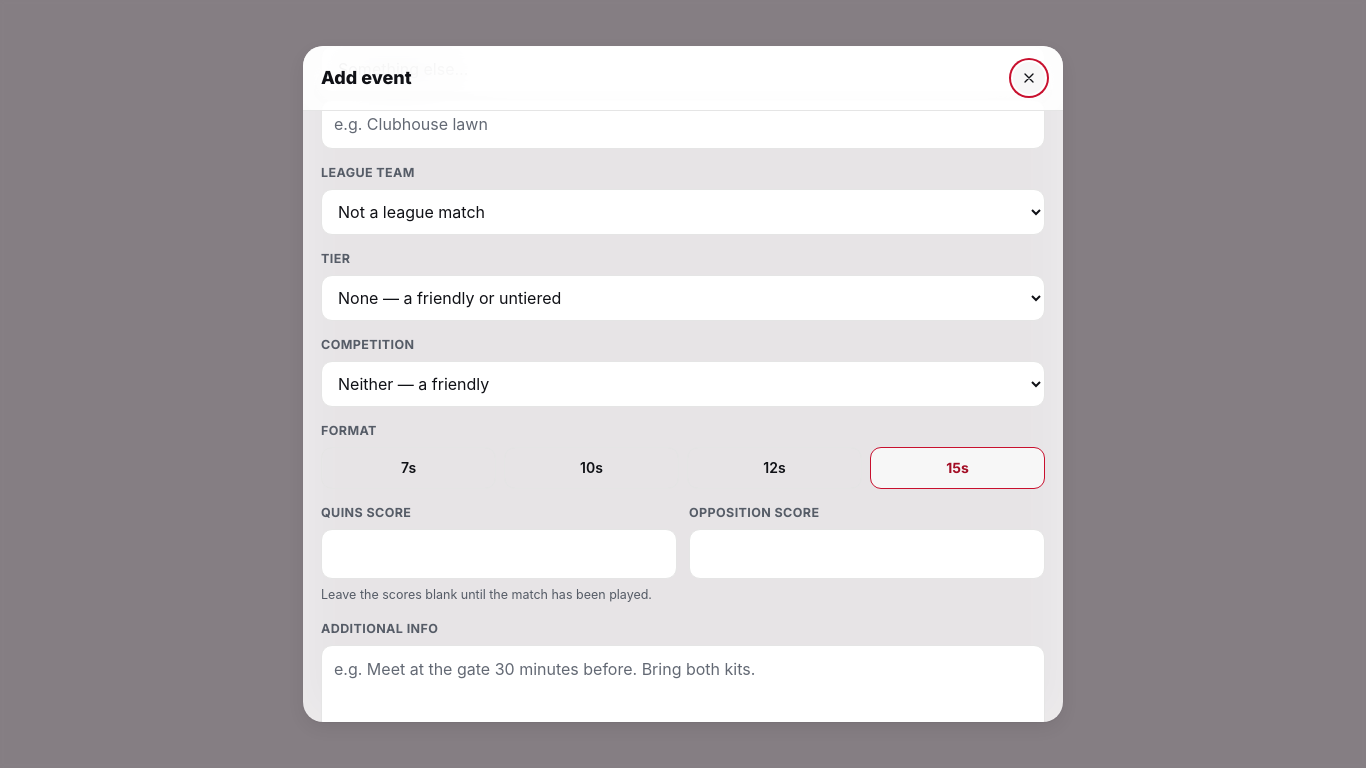
it: EventForm — senior squads › names the senior division on the league-team option and prefills the tier with its code
(page scrolled)
Select "League" in the dropdown labelled "Competition" at (683, 384), box [321,361,1045,407]
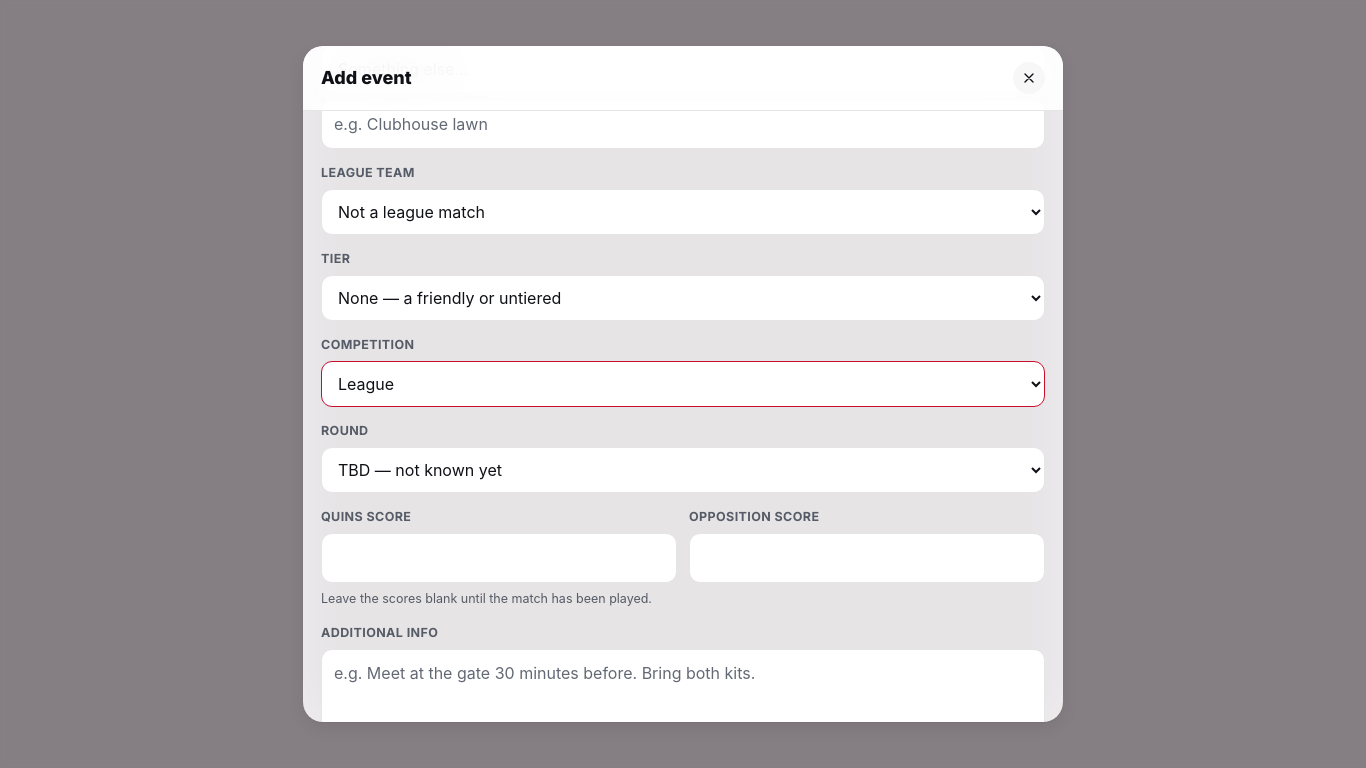
Select "ADH — Premiership" in the dropdown labelled "League team" at (683, 212), box [321,189,1045,235]
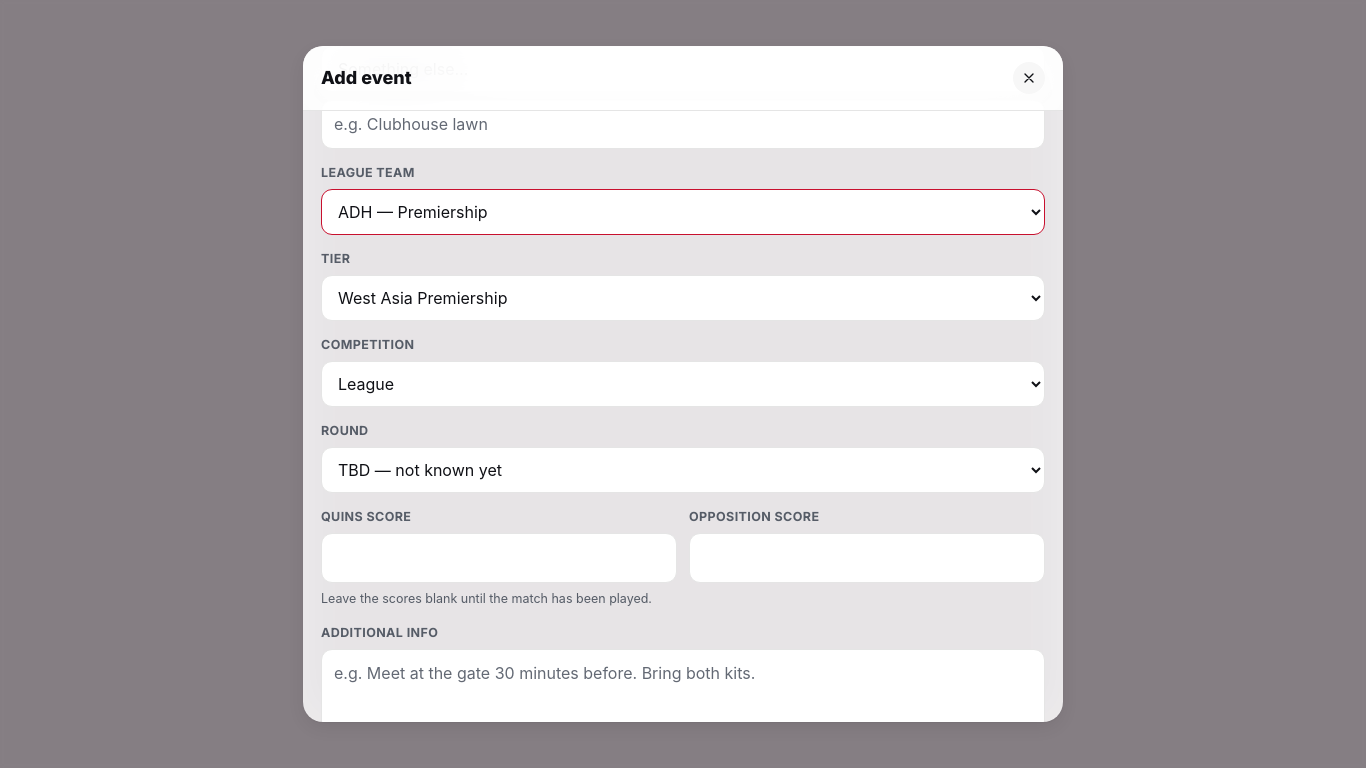
Expected: the dropdown labelled "Tier" shows "West Asia Premiership", [321,275,1045,321]
